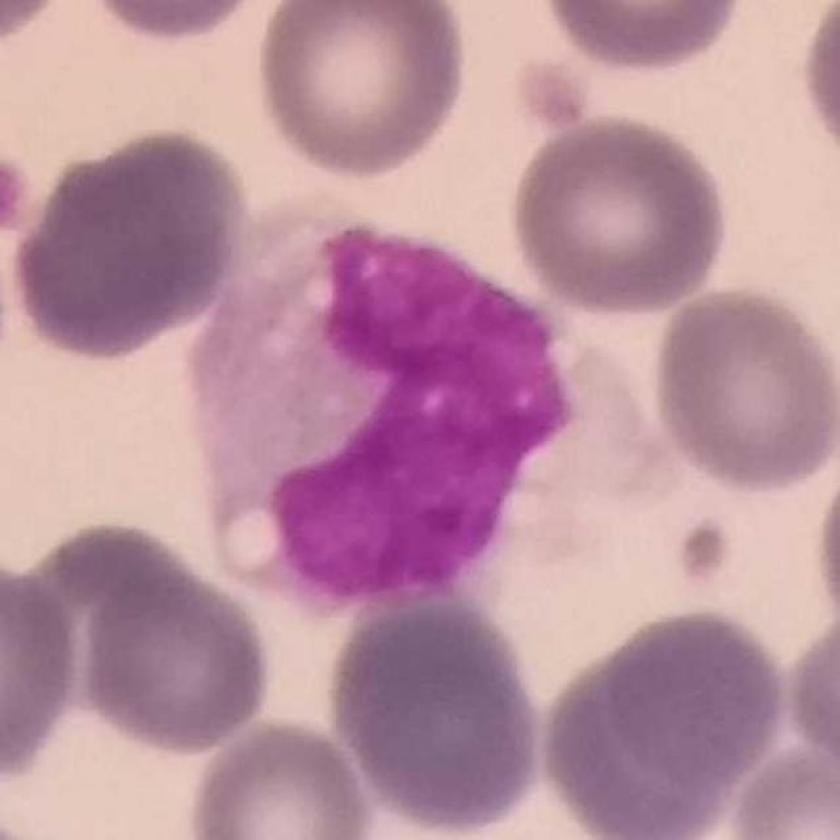monocyte: (186, 202, 676, 614)
